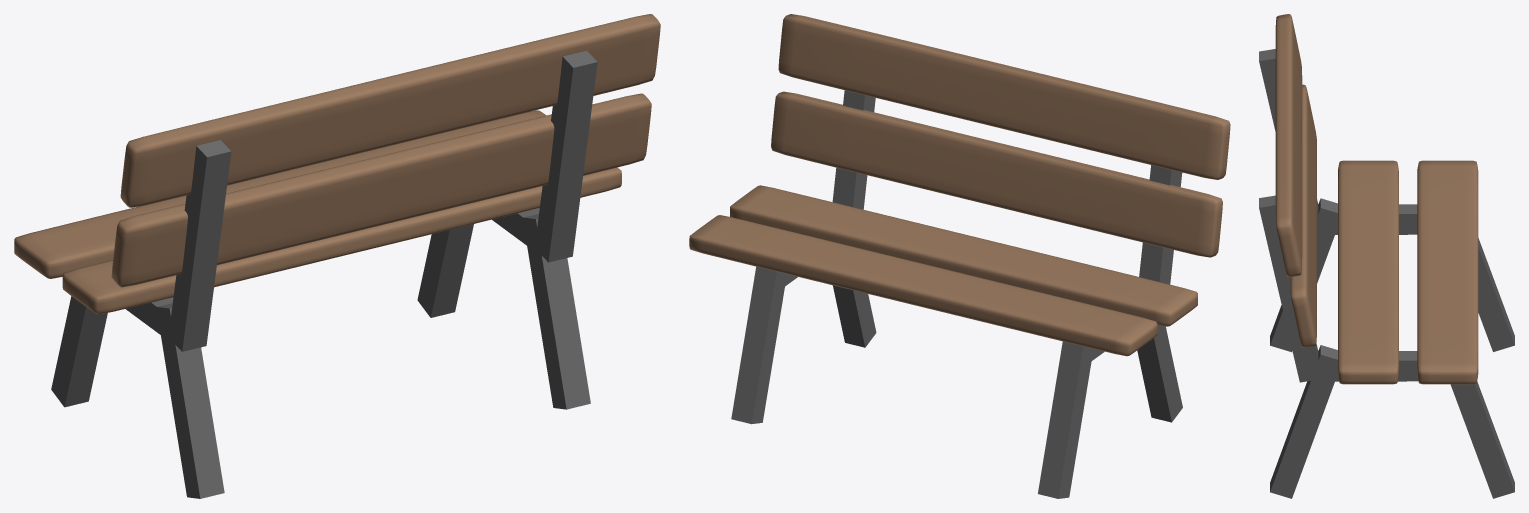
The model's file is banc.glb.
The picture shows the model from 3 angles, left to right: view 1: azimuth 30°, elevation 25°; view 2: azimuth 150°, elevation 25°; view 3: azimuth 270°, elevation 25°; orthographic projection. The views are drawn at different scales.
Visible parts, largest first — view 1: Cube.035; view 2: Cube.035; view 3: Cube.035.
Part boxes in pixels (x1,y1,x2,y2): Cube.035: (14,14,660,498); Cube.035: (689,14,1230,498); Cube.035: (1259,14,1514,498).
Size of the model in its own units: 5.66 by 3.81 by 2.89.
